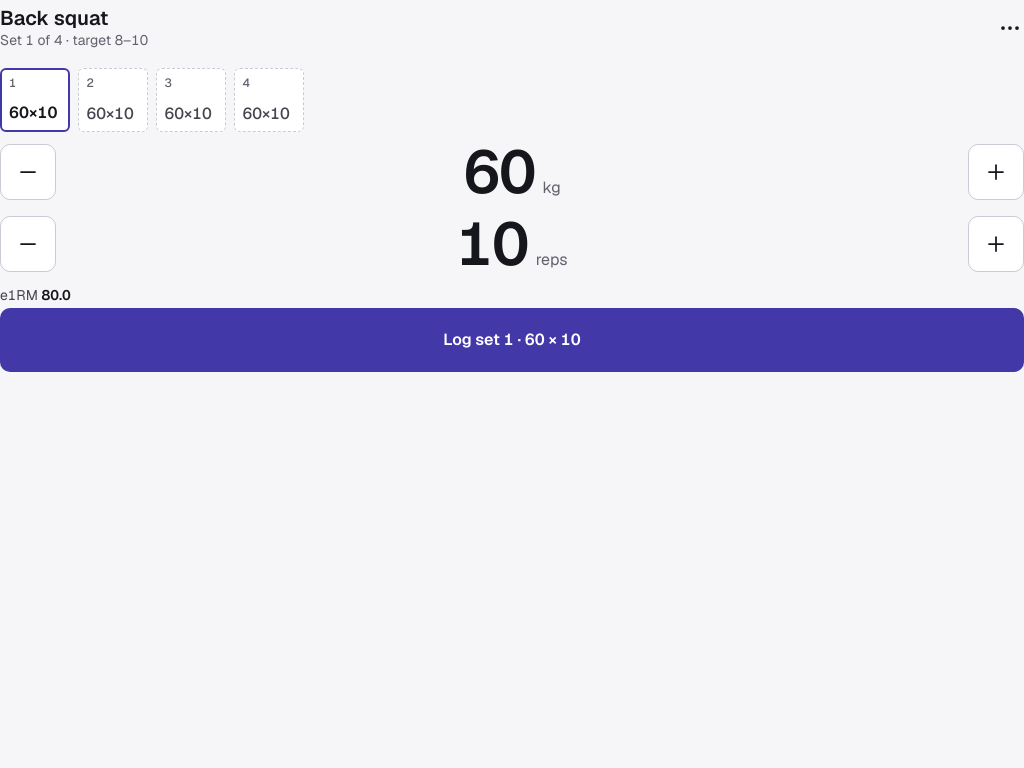
Test case: O4 tapping the reps number opens the reps keypad
The width and height of the screenshot is (1024, 768).
Check: the button "OK" is not shown
Click the button named "Reps".
click(492, 244)  # box [456,212,528,276]
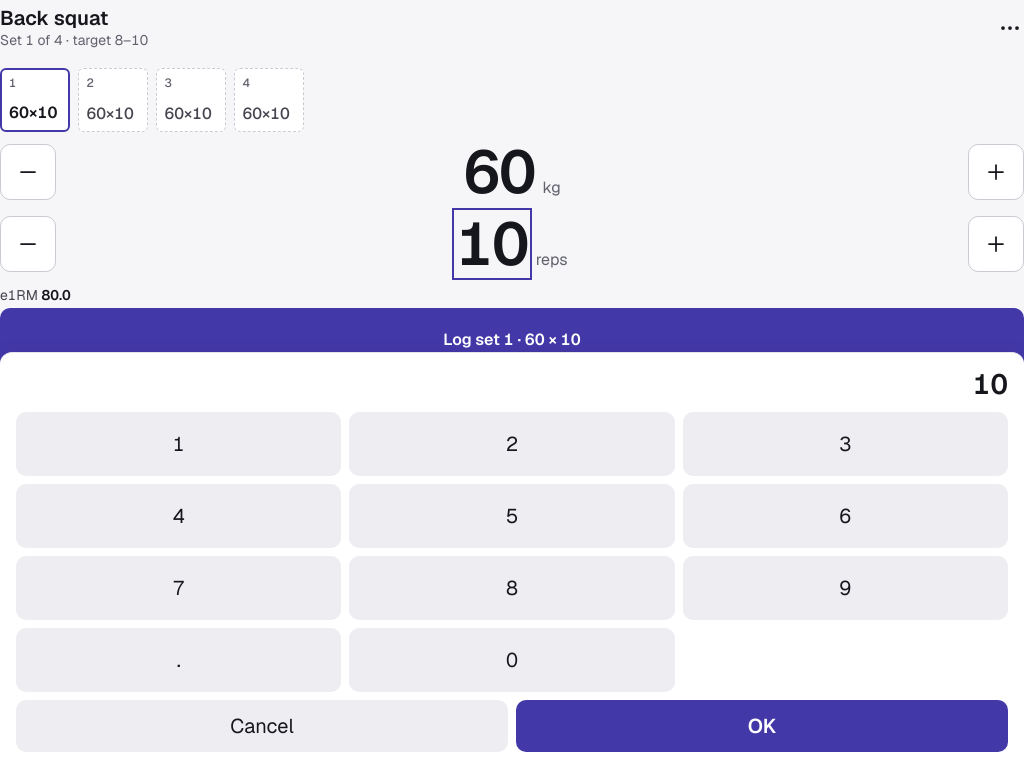
Check: the element named "Reps keypad" is shown, box [0,352,1023,767]
Check: the button "OK" is shown, box [516,700,1008,752]
